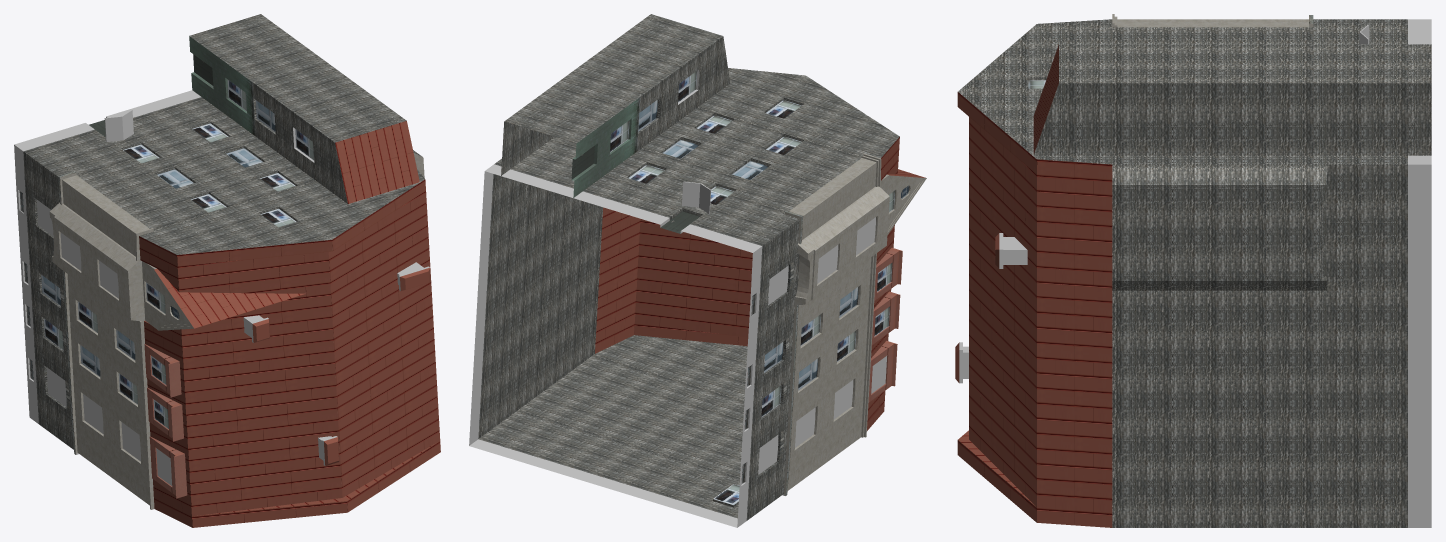
Rendered from Uus_20a.obj.
3 renders of one model, left to right at view 1: azimuth 30°, elevation 25°; view 2: azimuth 150°, elevation 25°; view 3: azimuth 270°, elevation 25°, orthographic. The views are drawn at different scales.
Visible parts, largest first — view 1: Object05; view 2: Object05; view 3: Object05.
Boxes of the visible parts, x1,y1,x2,y2 form: Object05: (14, 14, 440, 527); Object05: (469, 14, 926, 527); Object05: (955, 14, 1431, 527).
Bounding box in the file's own units: 17.67 × 19.67 × 19.04.
